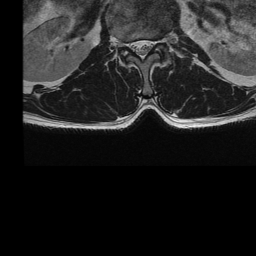CCS_normal: (138, 35, 145, 64)
LFS_severe_stenosis: (154, 34, 161, 50)
LLS_normal: (146, 34, 153, 59)
RFS_stenosis: (122, 37, 130, 53)
RLS_normal: (130, 35, 139, 58)
